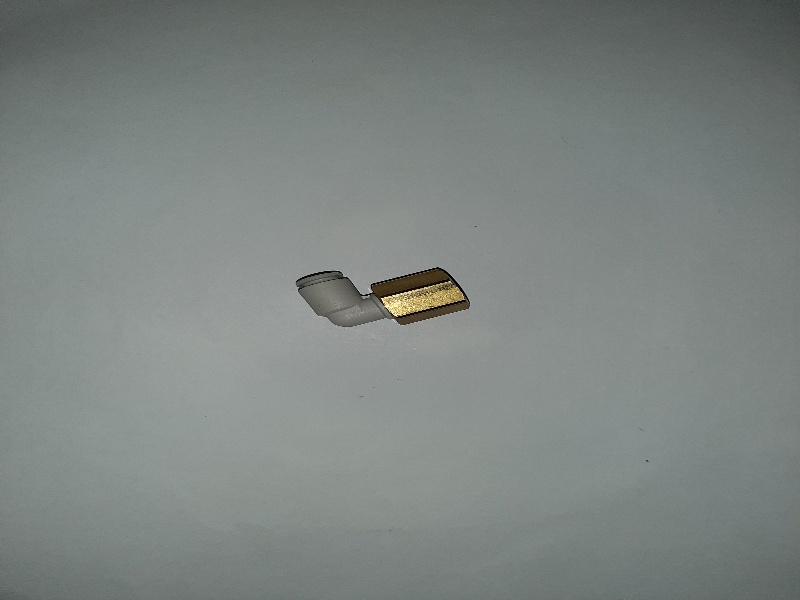Connector: (293, 259, 474, 334)
